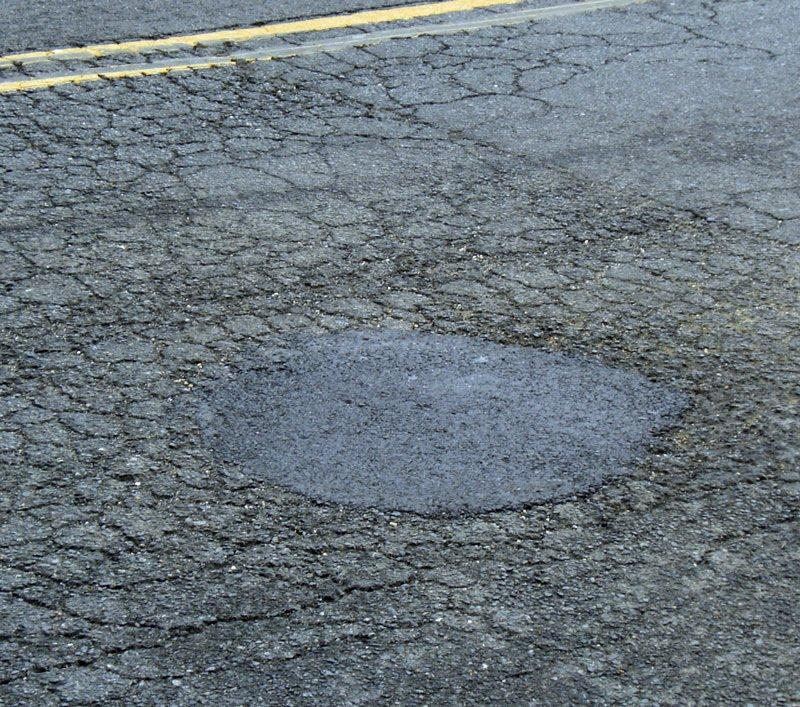alligator-crack: (8, 61, 784, 707)
pothole: (214, 321, 675, 513)
